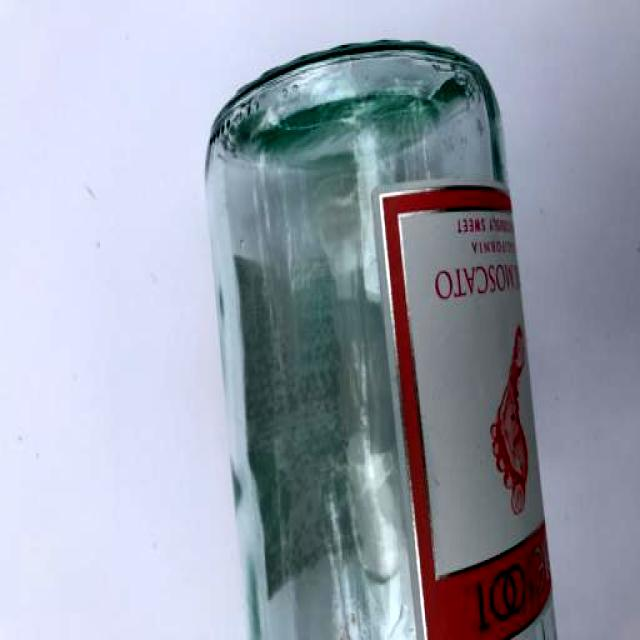Glass: (206, 42, 555, 640)
